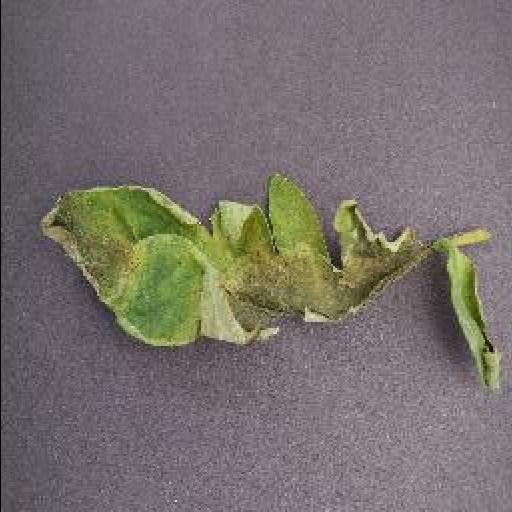disease_tomato: (36, 170, 430, 346), (440, 254, 506, 392)
